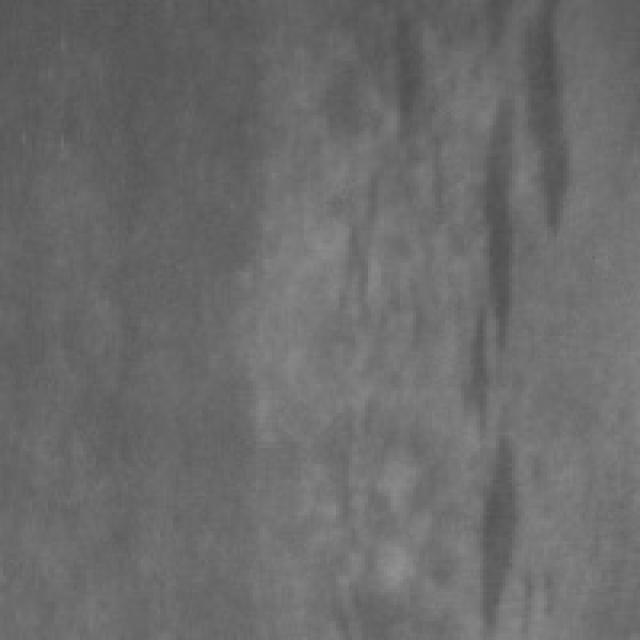inclusion: (458, 0, 579, 573), (461, 422, 544, 634), (364, 3, 442, 166)
